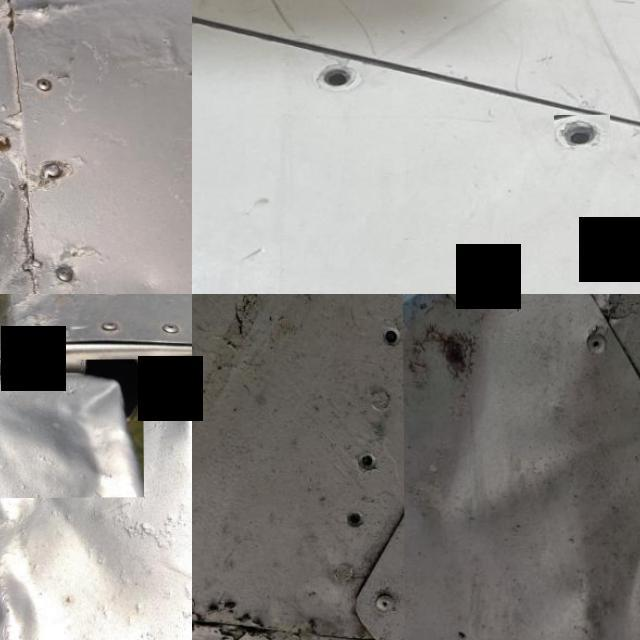Dent: (402, 294, 640, 640), (0, 359, 143, 498), (0, 534, 61, 640)
Missing_Fastener: (306, 57, 368, 94), (554, 115, 610, 152)
